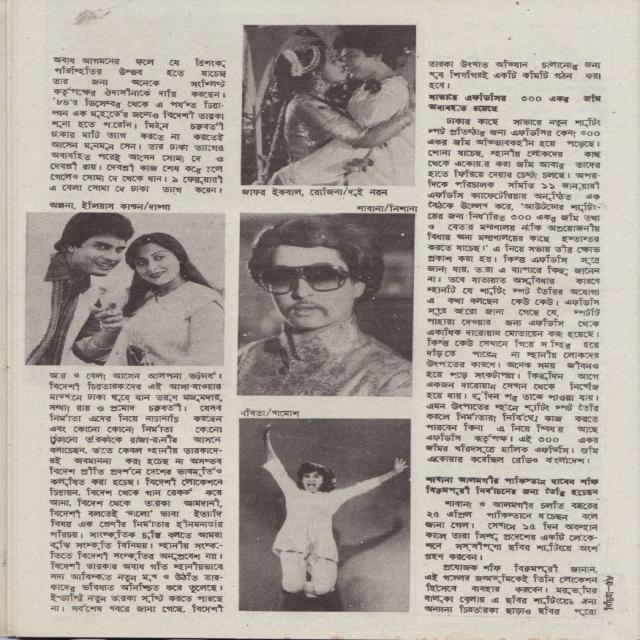caption: (236, 185, 393, 200), (39, 198, 178, 213), (232, 403, 308, 420), (350, 201, 422, 217)
image: (235, 417, 410, 613), (16, 210, 227, 370), (238, 212, 416, 397), (241, 24, 419, 188)
page number: (601, 574, 615, 587)
paragraph: (420, 113, 604, 467), (39, 369, 229, 620), (39, 48, 234, 198), (421, 499, 603, 563), (419, 559, 603, 619), (421, 56, 607, 92), (423, 89, 608, 113)
text: (602, 588, 617, 613)
title: (420, 473, 602, 498)
